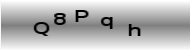8: (52, 11, 68, 26)
P: (74, 7, 90, 24)
Q: (32, 21, 52, 37)
h: (127, 22, 143, 39)
q: (99, 15, 115, 31)
